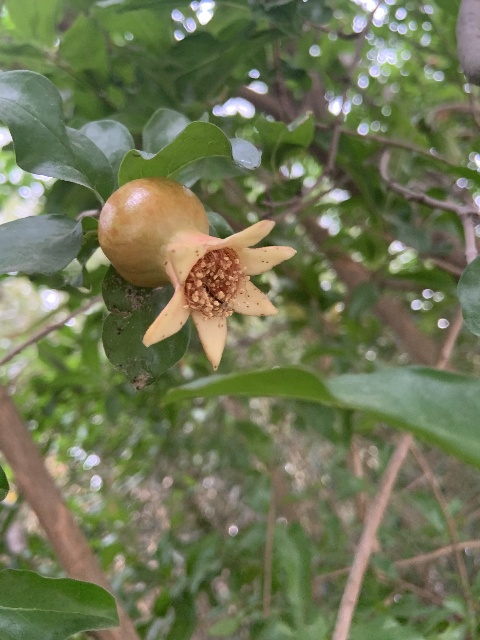early-fruit: (97, 176, 297, 371)
